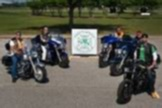Vehicle: (0, 38, 47, 84), (117, 58, 157, 104), (30, 32, 70, 68), (110, 42, 146, 76), (99, 35, 131, 68)
